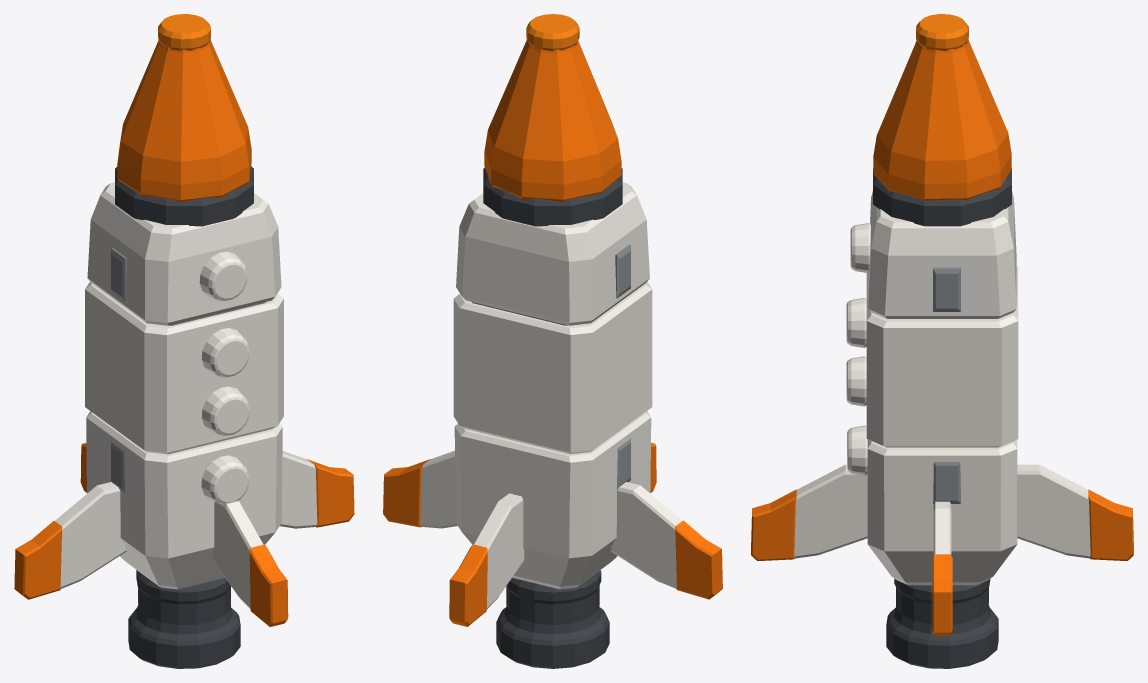
The model's file is arcade-missile.glb.
The picture shows the model from 3 angles, left to right: view 1: azimuth 30°, elevation 25°; view 2: azimuth 150°, elevation 25°; view 3: azimuth 270°, elevation 25°; orthographic projection.
Visible parts, largest first — view 1: Center brick · two studs, Rear brick · fin sockets, Orange faceted nose, Front brick · sloping shoulder, Stepped graphite nozzle rim, Ivory tail fin 3, Graphite coupling ring, Graphite nozzle stem, Ivory tail fin 4, Orange tail fin tip 3, Orange tail fin tip 4, Ivory tail fin 1 (+8 smaller); view 2: Center brick · two studs, Rear brick · fin sockets, Front brick · sloping shoulder, Orange faceted nose, Stepped graphite nozzle rim, Ivory tail fin 3, Graphite coupling ring, Graphite nozzle stem, Ivory tail fin 2, Orange tail fin tip 3, Orange tail fin tip 2, Ivory tail fin 1 (+4 smaller); view 3: Center brick · two studs, Rear brick · fin sockets, Orange faceted nose, Front brick · sloping shoulder, Ivory tail fin 2, Ivory tail fin 4, Stepped graphite nozzle rim, Graphite coupling ring, Graphite nozzle stem, Orange tail fin tip 2, Orange tail fin tip 4, Orange tail fin tip 1 (+8 smaller).
Part boxes in pixels (x1,y1,x2,y2): Center brick · two studs: [85, 281, 283, 454]; Rear brick · fin sockets: [86, 411, 282, 589]; Orange faceted nose: [117, 40, 251, 202]; Front brick · sloping shoulder: [87, 182, 281, 325]; Stepped graphite nozzle rim: [128, 605, 240, 668]; Ivory tail fin 3: [55, 482, 127, 588]; Graphite coupling ring: [115, 166, 253, 226]; Graphite nozzle stem: [136, 570, 231, 624]; Ivory tail fin 4: [213, 500, 263, 609]; Orange tail fin tip 3: [14, 521, 62, 599]; Orange tail fin tip 4: [249, 544, 288, 626]; Ivory tail fin 1: [280, 451, 317, 528]; Center brick · two studs: [453, 281, 652, 454]; Rear brick · fin sockets: [454, 411, 651, 589]; Front brick · sloping shoulder: [456, 182, 649, 325]; Orange faceted nose: [484, 39, 621, 201]; Stepped graphite nozzle rim: [496, 606, 609, 668]; Ivory tail fin 3: [610, 482, 682, 588]; Graphite coupling ring: [483, 167, 622, 226]; Graphite nozzle stem: [506, 570, 601, 624]; Ivory tail fin 2: [474, 493, 524, 608]; Orange tail fin tip 3: [675, 520, 722, 599]; Orange tail fin tip 2: [449, 544, 487, 626]; Ivory tail fin 1: [420, 450, 457, 528]; Center brick · two studs: [866, 266, 1018, 447]; Rear brick · fin sockets: [867, 439, 1017, 585]; Orange faceted nose: [873, 39, 1011, 200]; Front brick · sloping shoulder: [868, 191, 1016, 318]; Ivory tail fin 2: [1017, 464, 1090, 558]; Ivory tail fin 4: [794, 464, 867, 558]; Stepped graphite nozzle rim: [886, 605, 998, 668]; Graphite coupling ring: [873, 168, 1011, 226]; Graphite nozzle stem: [894, 578, 990, 624]; Orange tail fin tip 2: [1088, 489, 1133, 560]; Orange tail fin tip 4: [751, 489, 796, 560]; Orange tail fin tip 1: [932, 554, 952, 635].
Size of the model in its own units: 0.348 by 0.625 by 0.348.
1 material, 1 textured.
